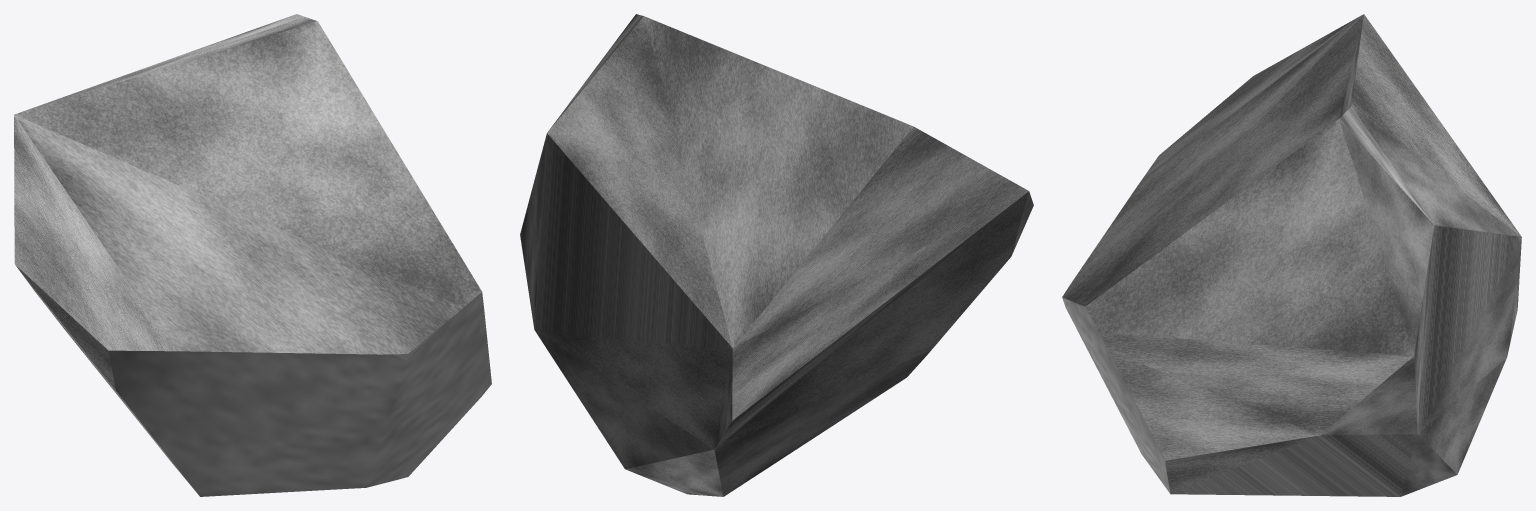
File: body_cell_049.fbx
The picture shows the model from 3 angles, left to right: view 1: azimuth 30°, elevation 25°; view 2: azimuth 150°, elevation 25°; view 3: azimuth 270°, elevation 25°; orthographic projection. The views are drawn at different scales.
Parts seen in each view (by area): view 1: body_cell.049; view 2: body_cell.049; view 3: body_cell.049.
Part boxes in pixels (<box>): body_cell.049: <box>14,14,491,496</box>; body_cell.049: <box>520,14,1033,496</box>; body_cell.049: <box>1062,14,1521,496</box>.
Size of the model in its own units: 44.36 by 42.73 by 42.13.
